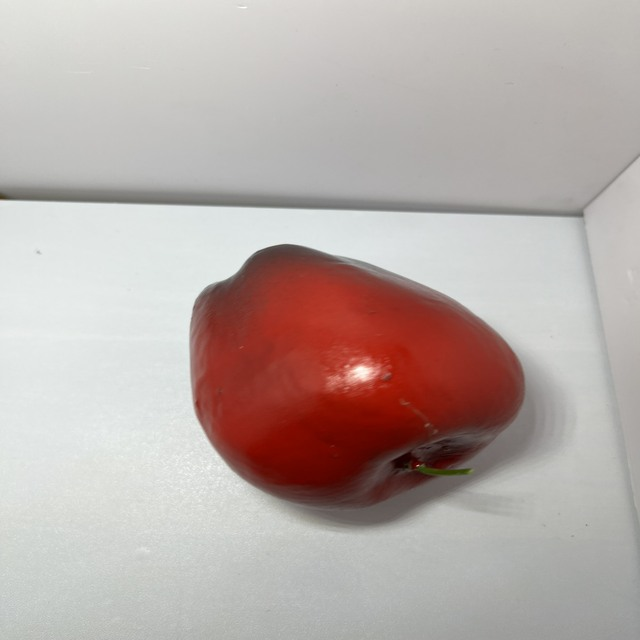Tao: (182, 234, 533, 521)
